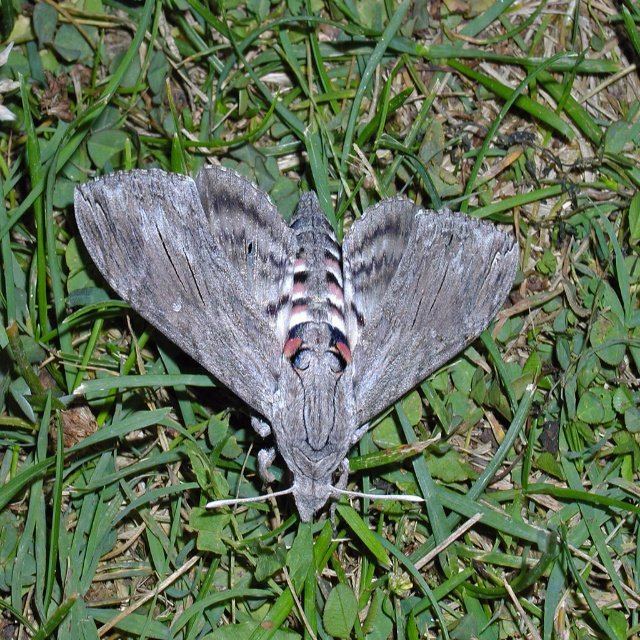Butterfly: (102, 132, 529, 527)
